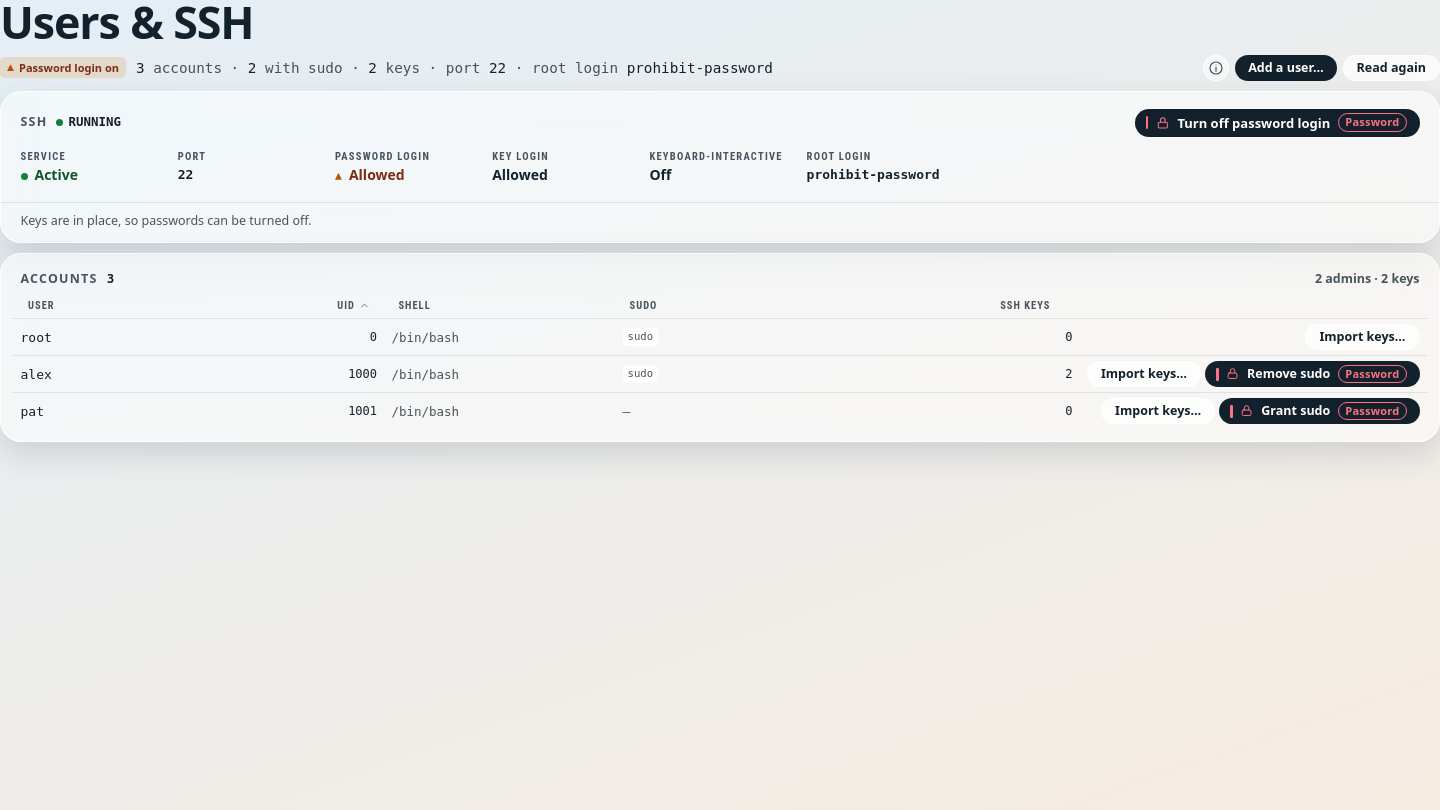
Test: Users & SSH page › imports keys from GitHub in a sheet, closing it before the approval opens
Click the button with aria-label "Import keys for alex" at (1144, 374), box [1087,361,1201,387]
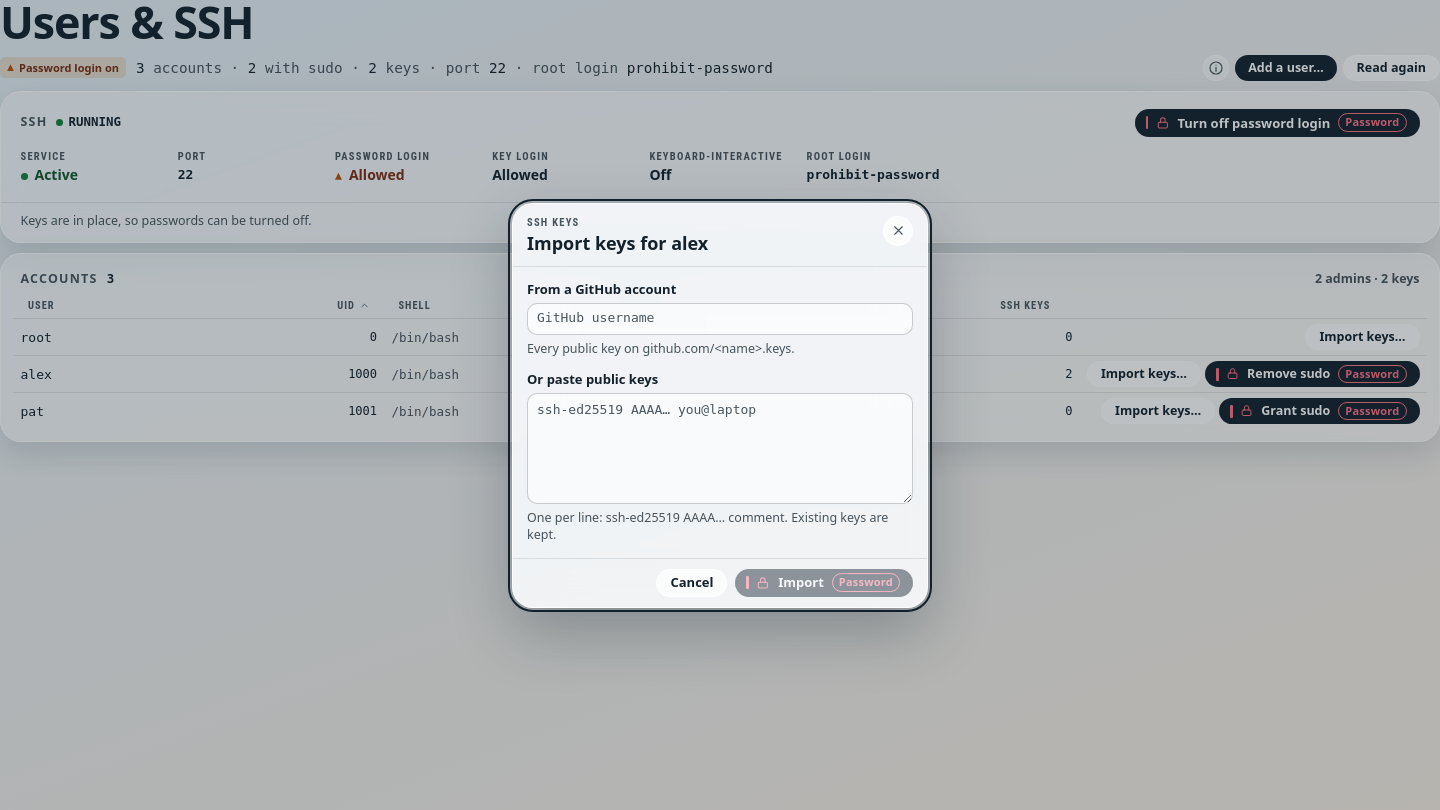
Result: the button "Import Password" is disabled at [736,568,913,596]
Type "alex-gh" into the field labelled "From a GitHub account" at (720, 319), box [527,303,913,335]
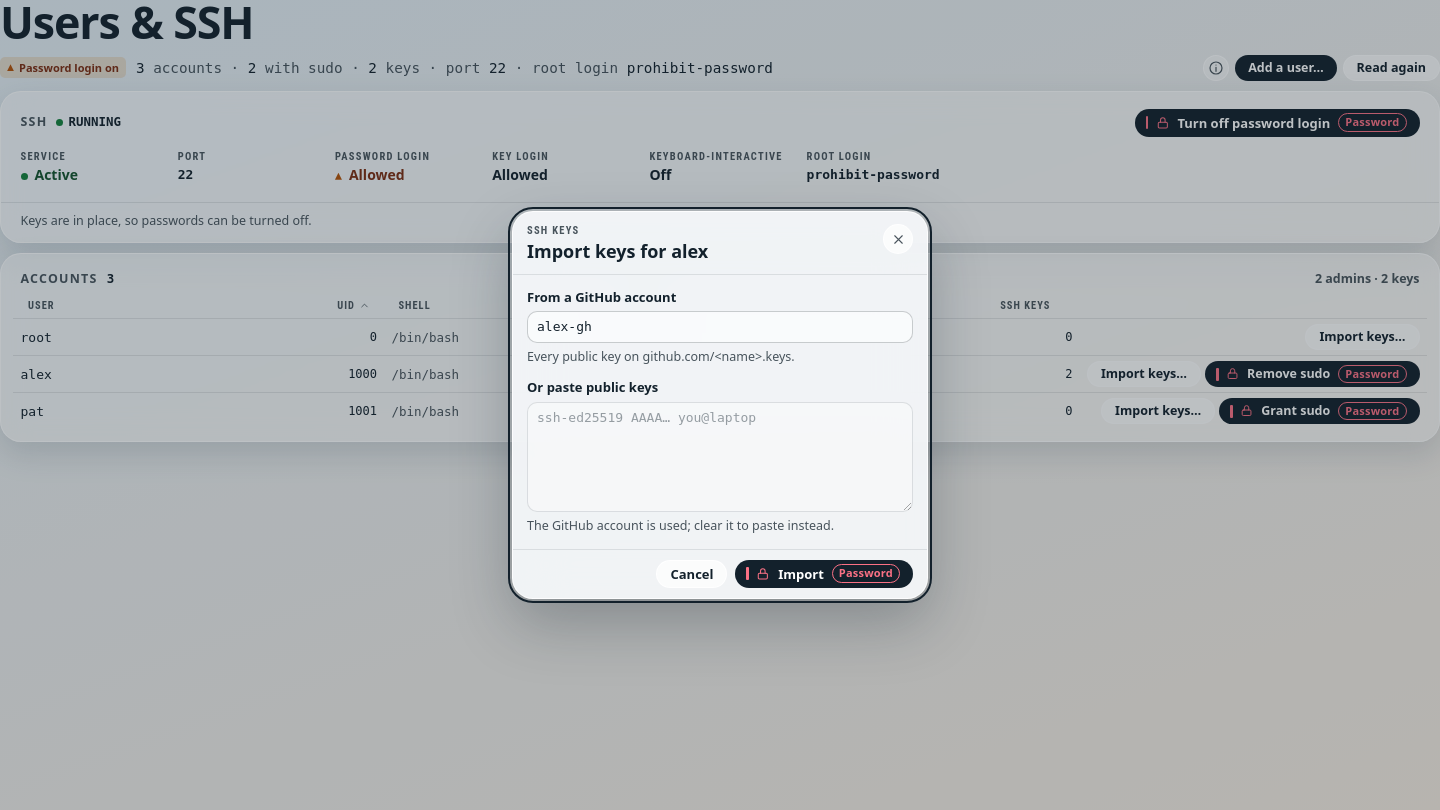
Result: the text box labelled "Or paste public keys" is disabled at [527,402,913,512]
Click the button "Import Password" at (824, 574), box [736,560,913,588]
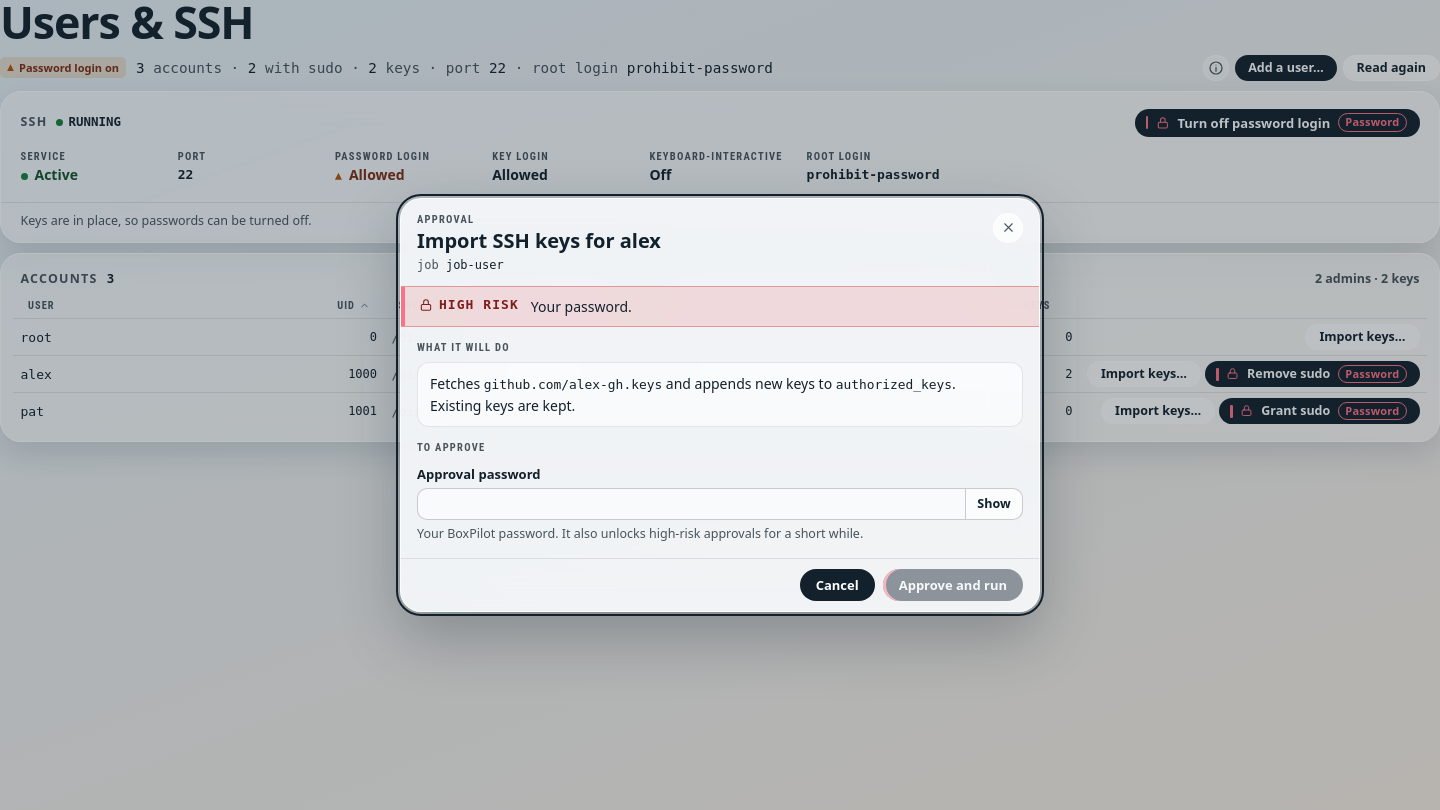
Result: the text "High risk" is shown at [419,297,519,312]
Result: the heading "Import keys for alex" is gone
